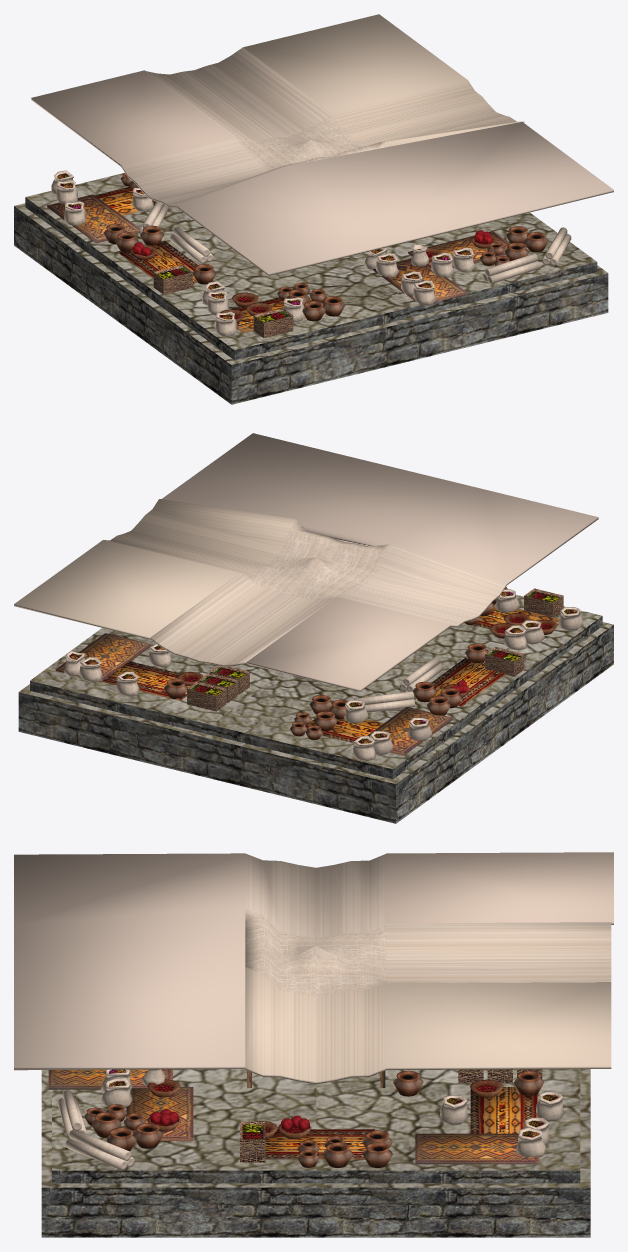
File: inca_market.dae
3 renders of one model, top to bottom at view 1: azimuth 30°, elevation 25°; view 2: azimuth 150°, elevation 25°; view 3: azimuth 270°, elevation 25°, orthographic. The views are drawn at different scales.
Parts seen in each view (by area): view 1: market; view 2: market; view 3: market.
Part boxes in pixels (left/top/right/bottom): market: left=14, top=14, right=613, bottom=404; market: left=14, top=433, right=613, bottom=823; market: left=14, top=852, right=613, bottom=1237.
Size of the model in its own units: 27.69 by 30.25 by 10.27.
1 material, 1 textured.
